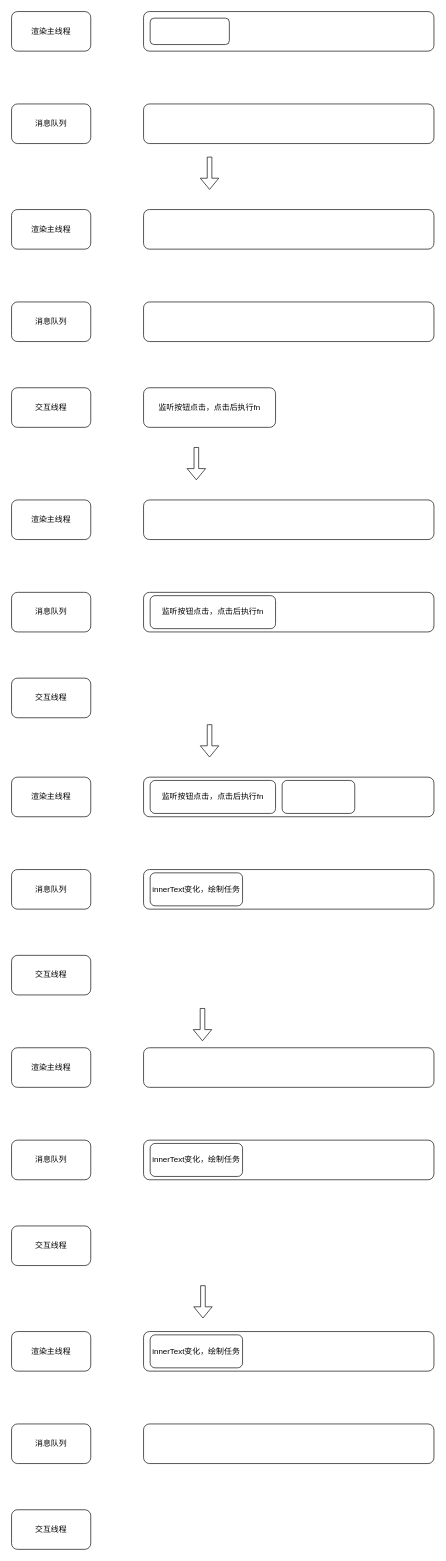
This 446x1561 diagram has some shape labels left out. Each missing label, with the centre of its shape:
"执行html css 解析js" goes at [189,31].
"死循环3000ms" goes at [318,796].
